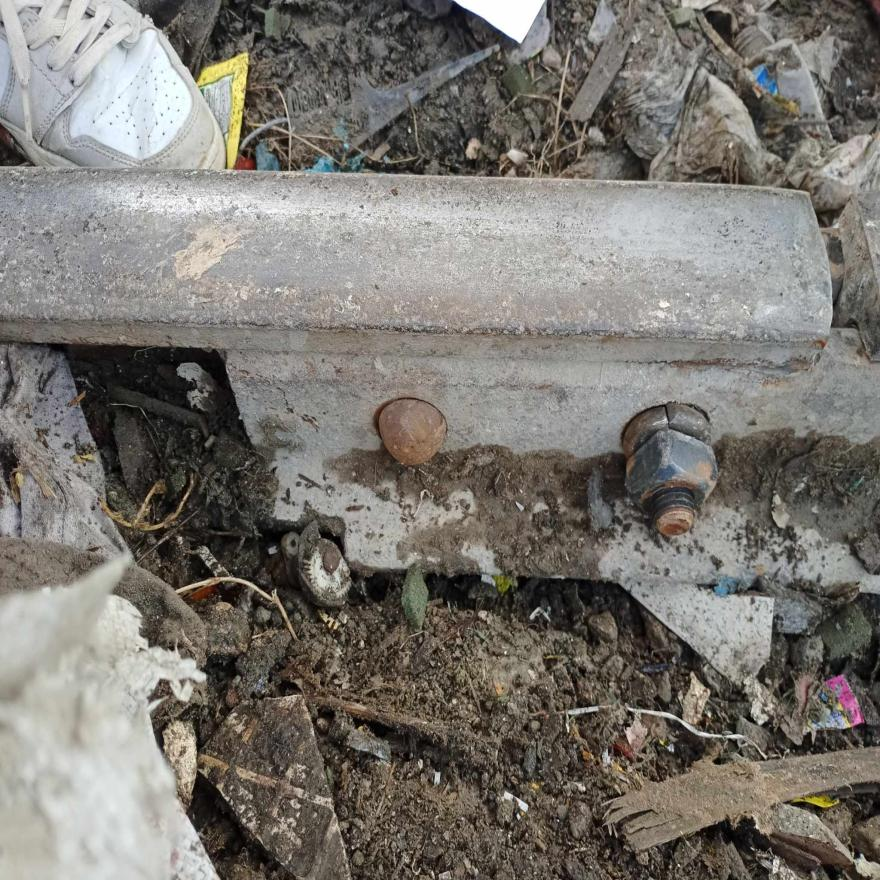railway-gap: (788, 161, 880, 371)
